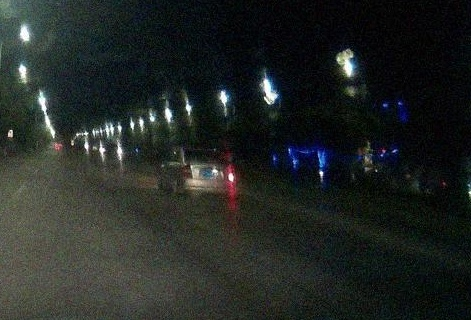L_light: (181, 164, 194, 179)
R_light: (225, 167, 236, 183)
T_light: (203, 148, 214, 151)
night-right: (179, 147, 237, 200)
